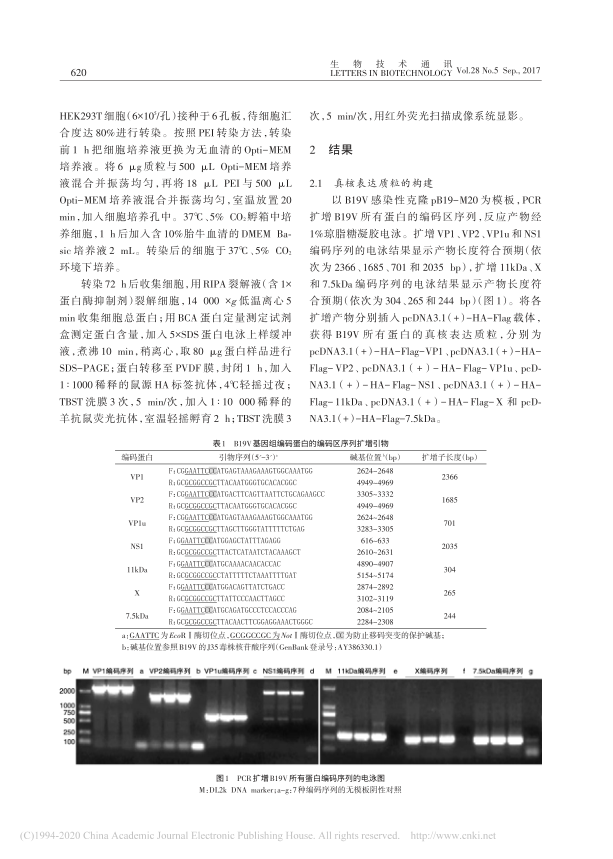Figure: (59, 631, 543, 766)
Header: (329, 59, 453, 77), (457, 64, 542, 76), (69, 68, 86, 76)
Table: (112, 447, 493, 629)
Text: (59, 110, 291, 424), (309, 194, 542, 424), (197, 774, 404, 793), (310, 110, 522, 120), (211, 438, 388, 446)
Title: (309, 177, 434, 189), (309, 143, 355, 155)
